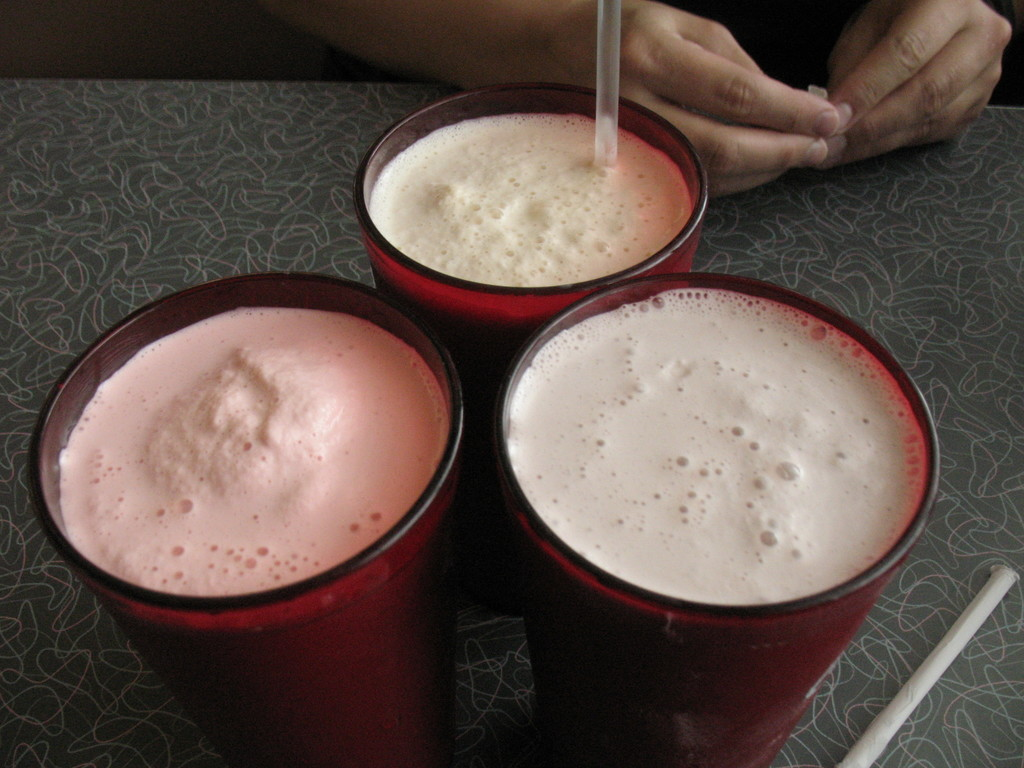Human_hand: (463, 0, 840, 203), (764, 0, 1024, 147)
